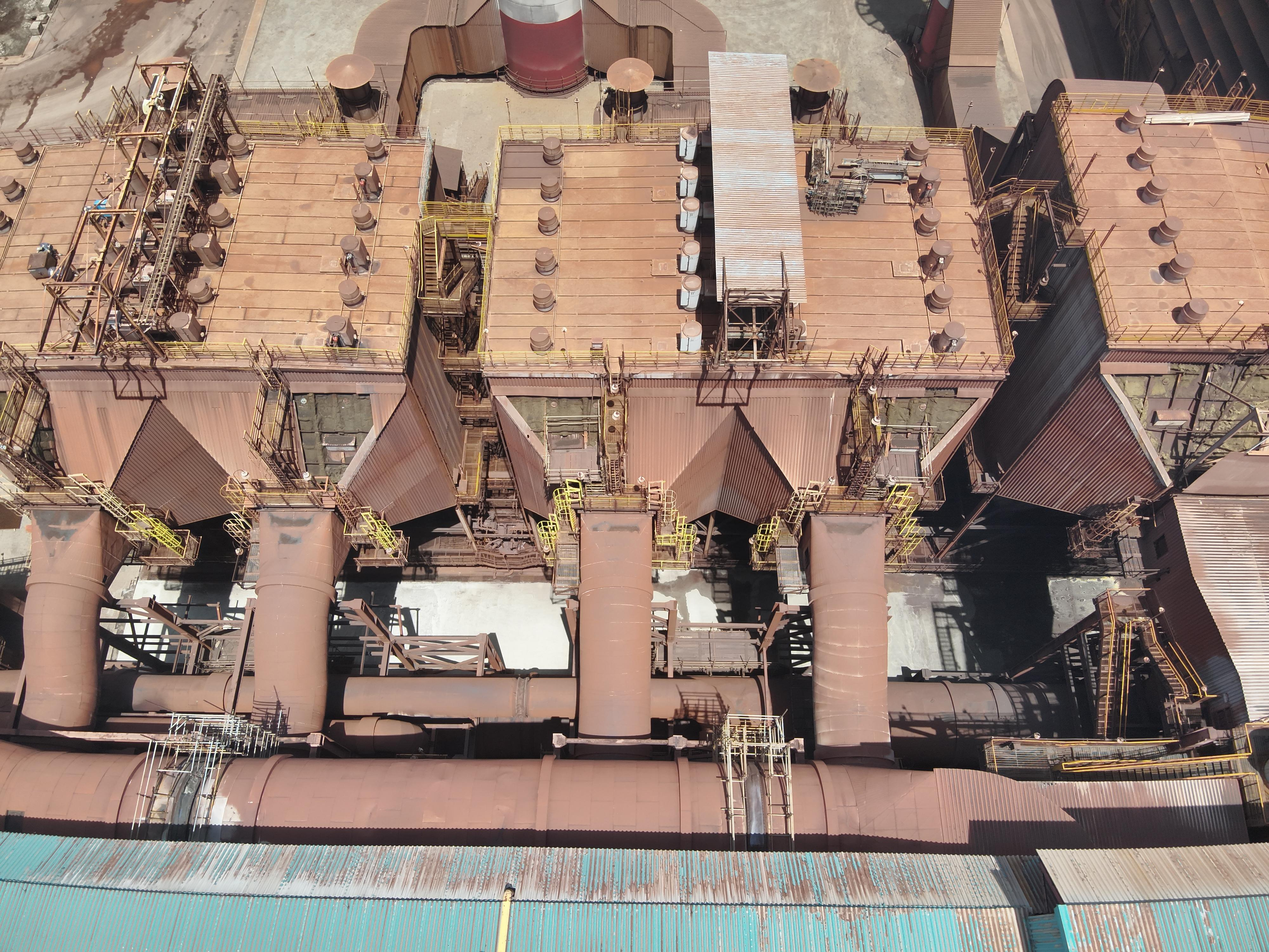Failures: (1106, 362, 1268, 486), (876, 386, 979, 461), (293, 390, 373, 478), (505, 390, 601, 451), (5, 808, 25, 833)
